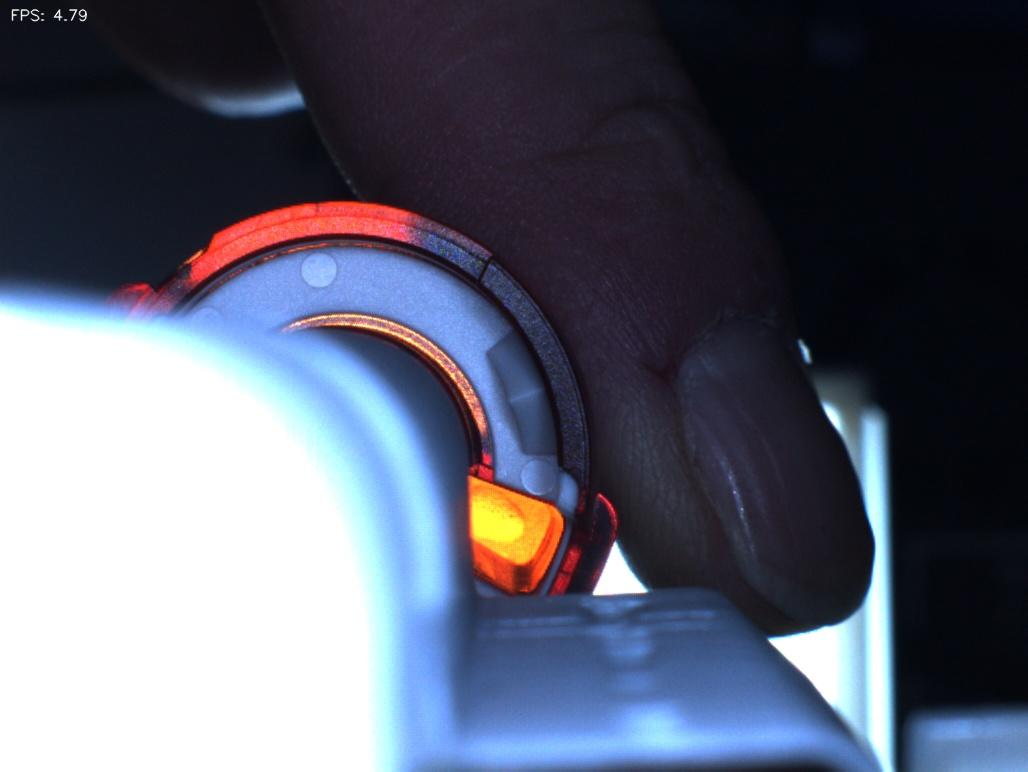Retassure: (459, 482, 529, 567)
